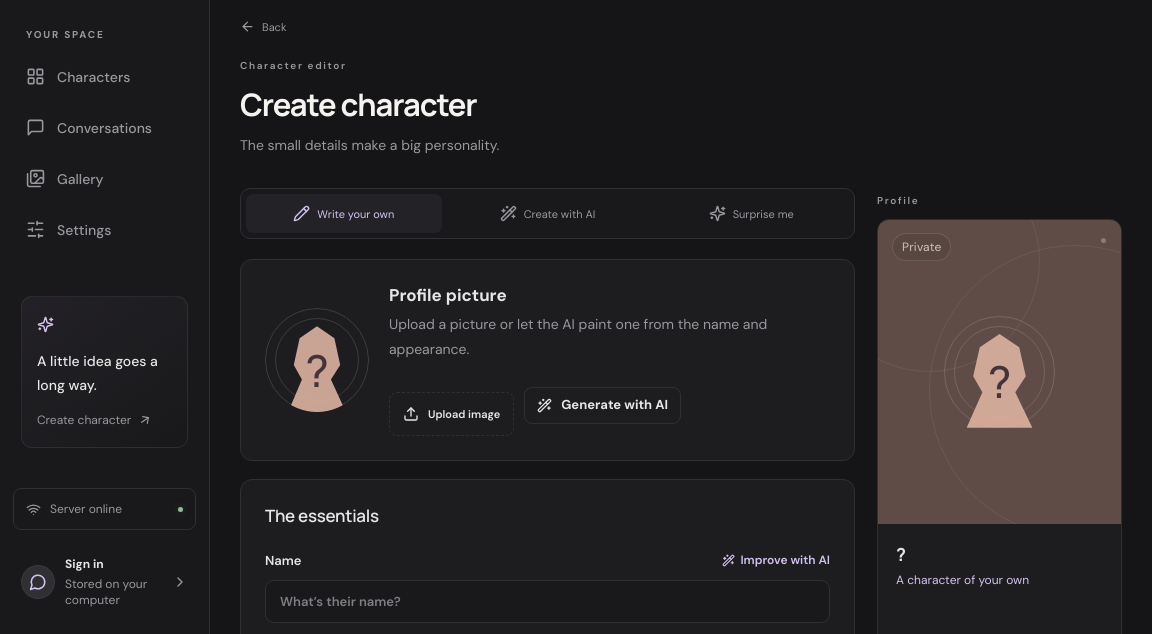
Test: character space › requires the separate server sign-in and never displays a password field on Pages
Expected: the button "Server online" is shown, [13,488,196,530]
Type "New person" into the field labelled "name" at (548, 602), box [265,580,830,624]
(page scrolled)
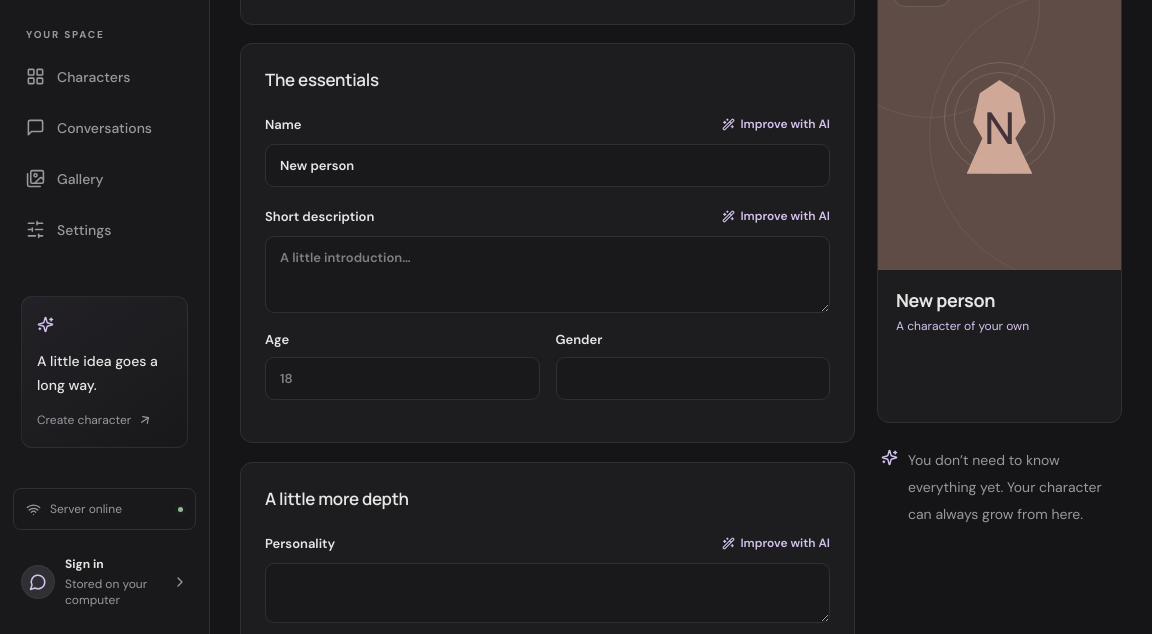
Type "A thoughtful companion" into the text box named "Short description" at (548, 275), box [265,236,830,314]
(page scrolled)
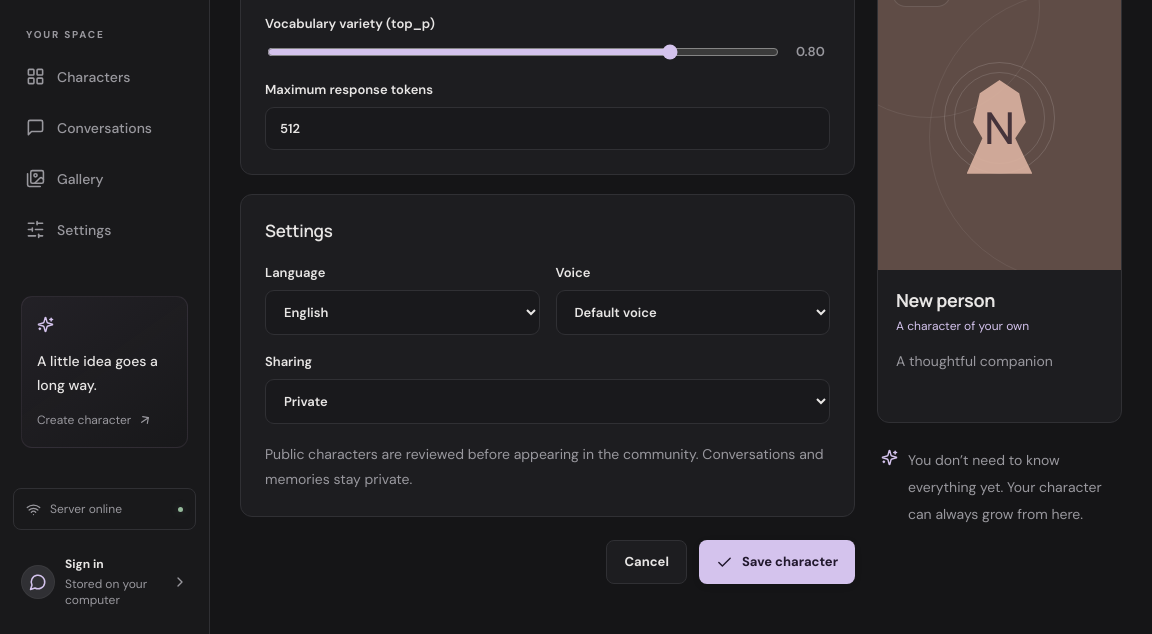
Click the button "Save character" at (777, 562), box [699,540,855,584]
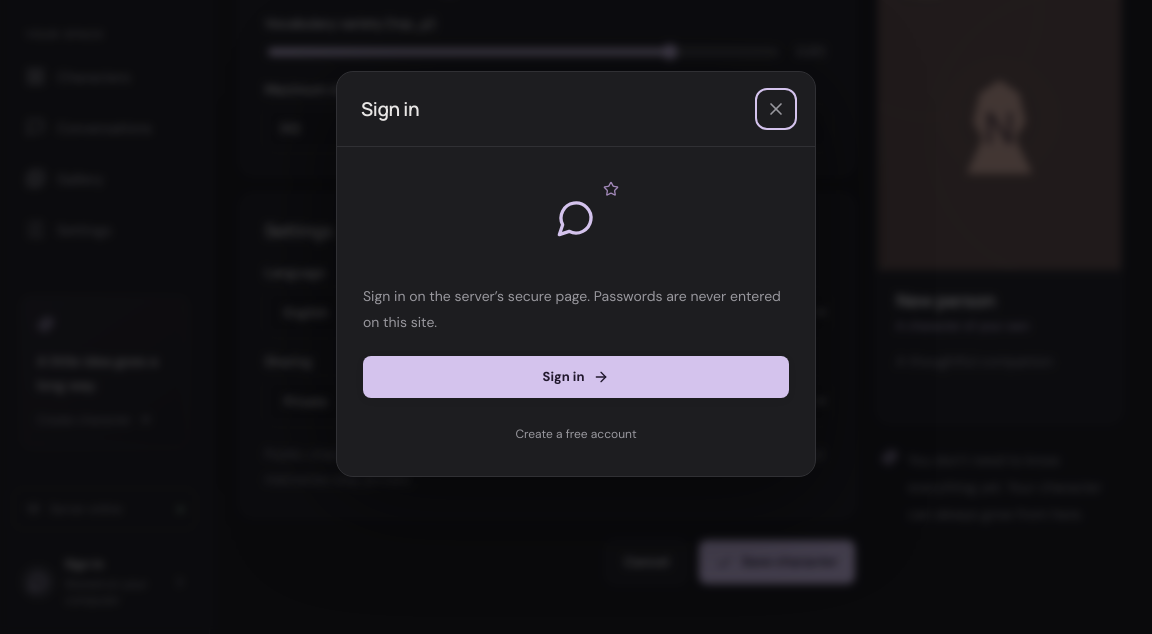
Expected: the text "Passwords are never entered" is shown, [363,287,781,331]
